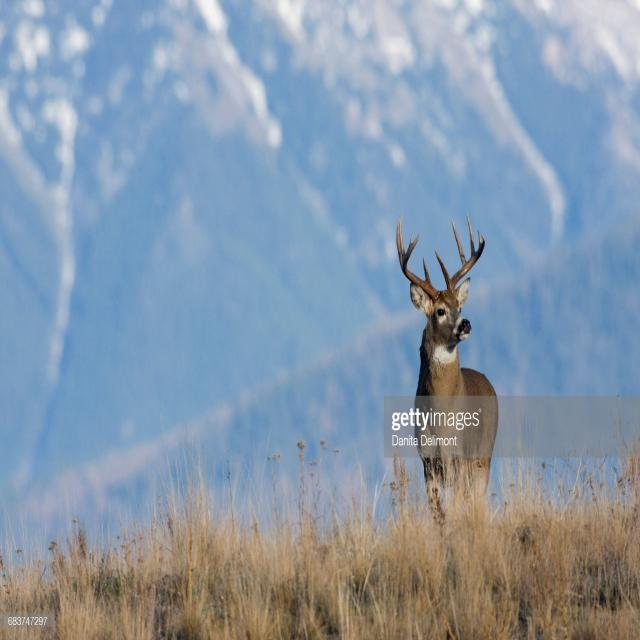E1: (409, 233, 414, 244)
L-F: (447, 233, 485, 293)
L-G1: (434, 247, 451, 289)
L-G2: (451, 219, 467, 267)
L-G3: (466, 213, 475, 257)
L-G4: (477, 229, 482, 247)
R-F: (402, 233, 438, 301)
R-G1: (423, 255, 431, 283)
R-G2: (396, 217, 403, 272)
R-G3: (399, 215, 405, 261)
